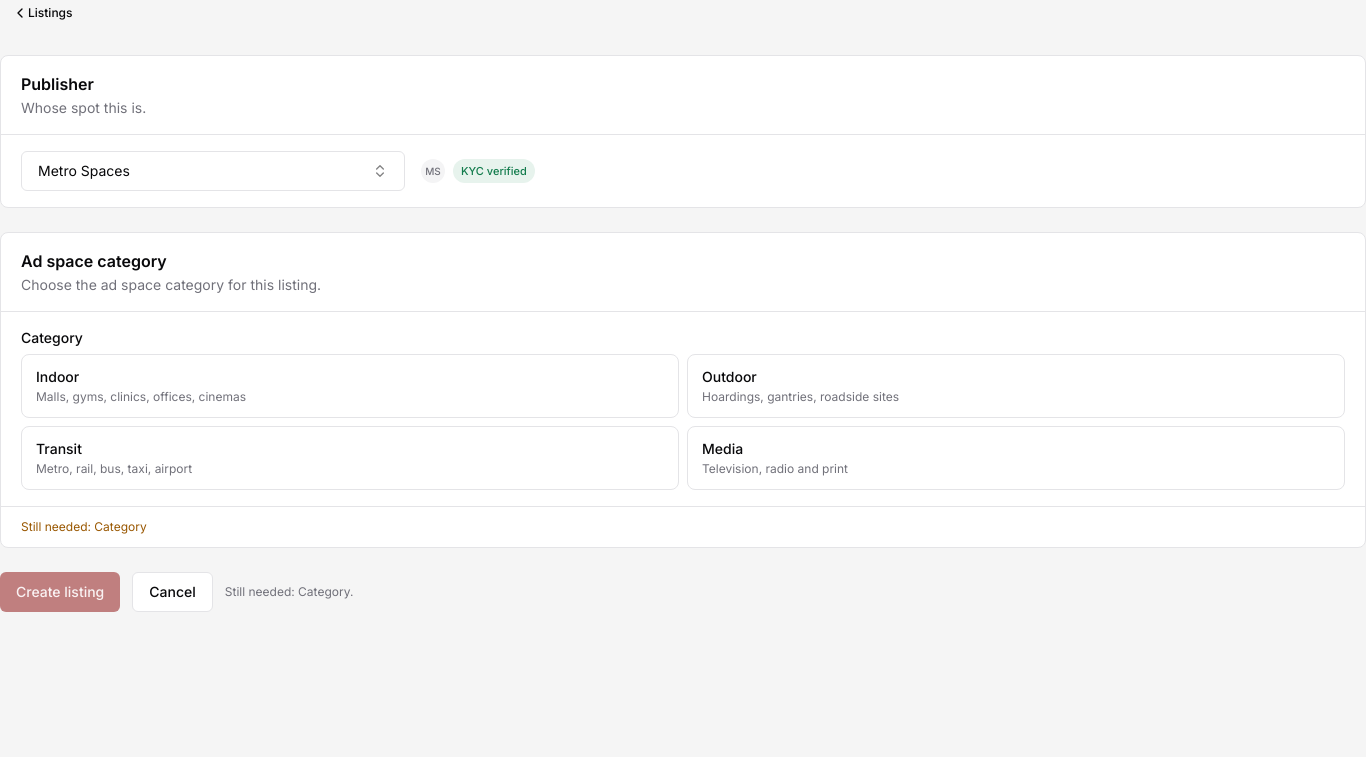
Test: ListingCreate drawn from the flow › LD-1: asks a transit spot what kind of vehicle, and never its footfall
Step 1. Click the radio button labelled "Transit Metro, rail, bus, taxi, airport" → point(59, 448), box [21,426,679,490]
(page scrolled)
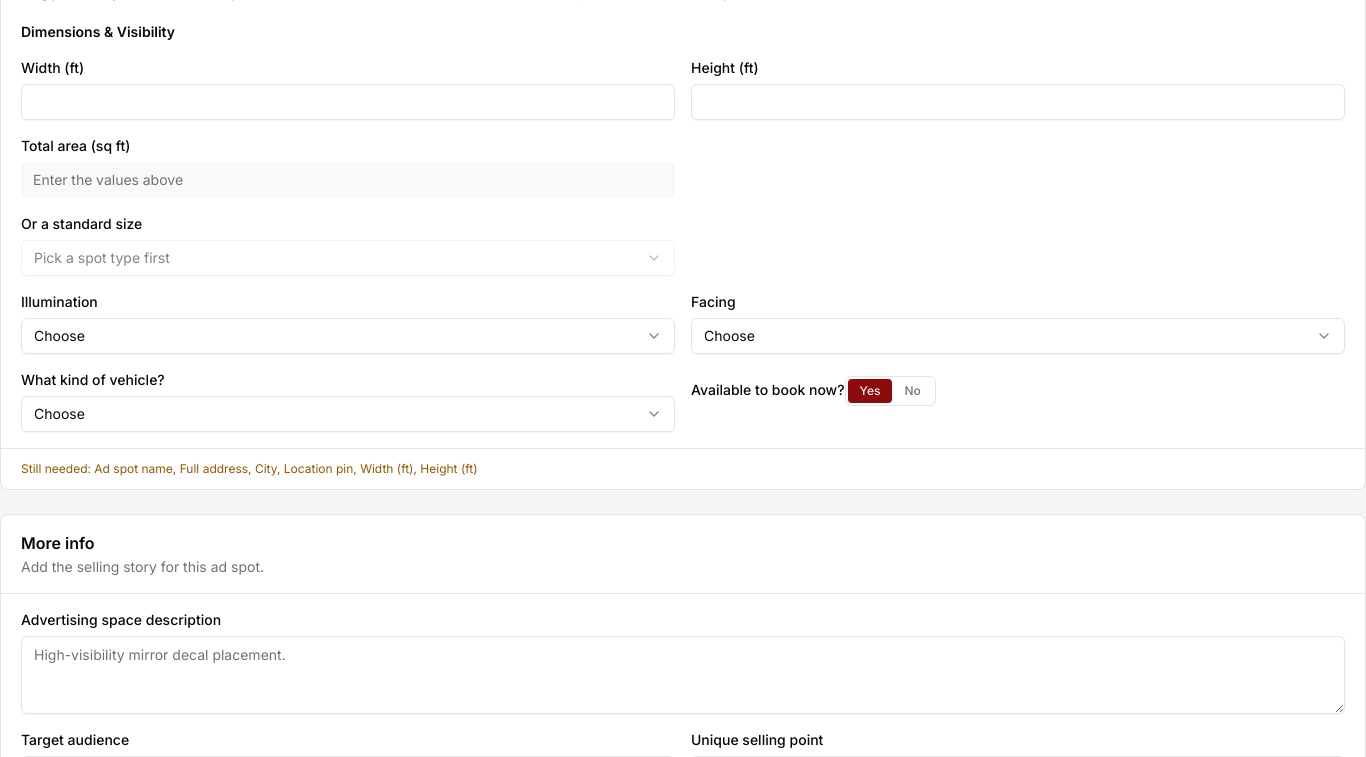
Expected: the text "What kind of vehicle?" is shown, [21,371,165,388]
